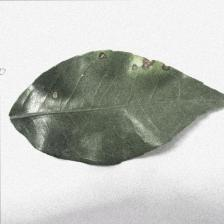canker: (118, 53, 180, 80)
